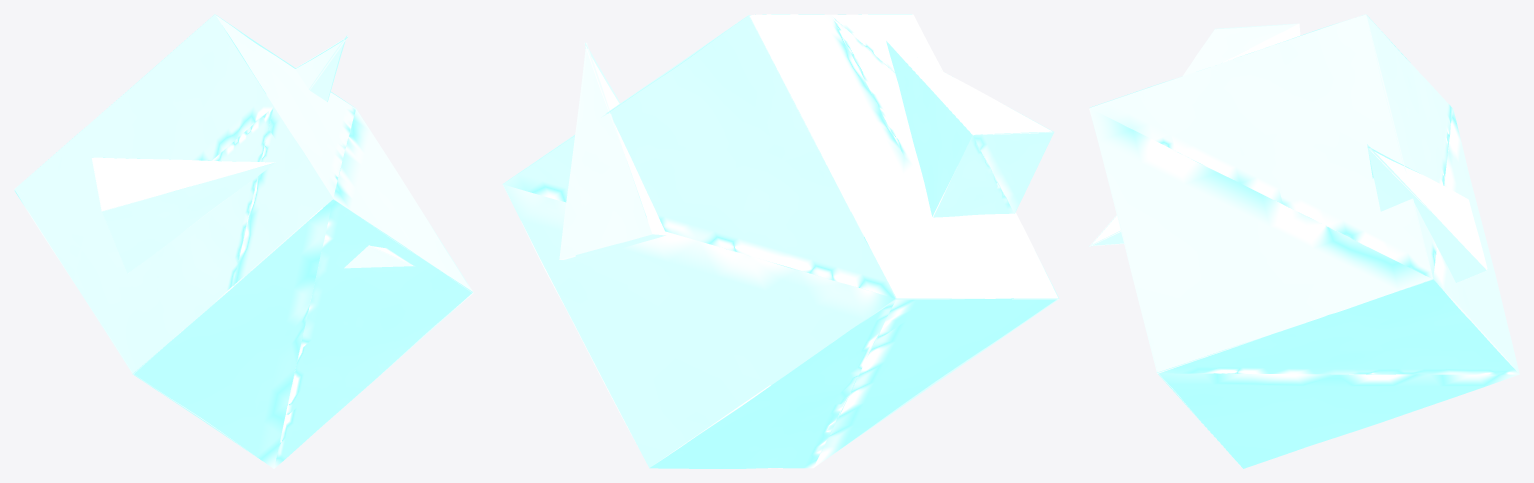
The model's file is ice.glb.
3 renders of one model, left to right at view 1: azimuth 30°, elevation 25°; view 2: azimuth 150°, elevation 25°; view 3: azimuth 270°, elevation 25°, orthographic. The views are drawn at different scales.
Parts seen in each view (by area): view 1: PangIceBody; view 2: PangIceBody; view 3: PangIceBody.
Boxes of the visible parts, x1,y1,x2,y2 form: PangIceBody: (14, 14, 473, 468); PangIceBody: (502, 14, 1059, 468); PangIceBody: (1089, 14, 1519, 468).
Bounding box in the file's own units: 0.9327 × 1.04 × 0.9001.
